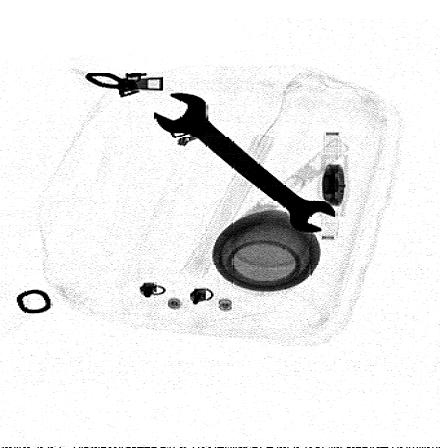Wrench: (154, 92, 339, 233)
